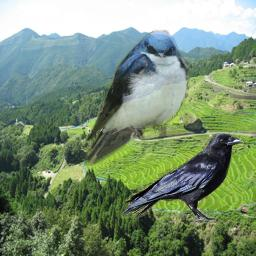Crow: (120, 130, 246, 227)
Swallow: (80, 29, 191, 166)
